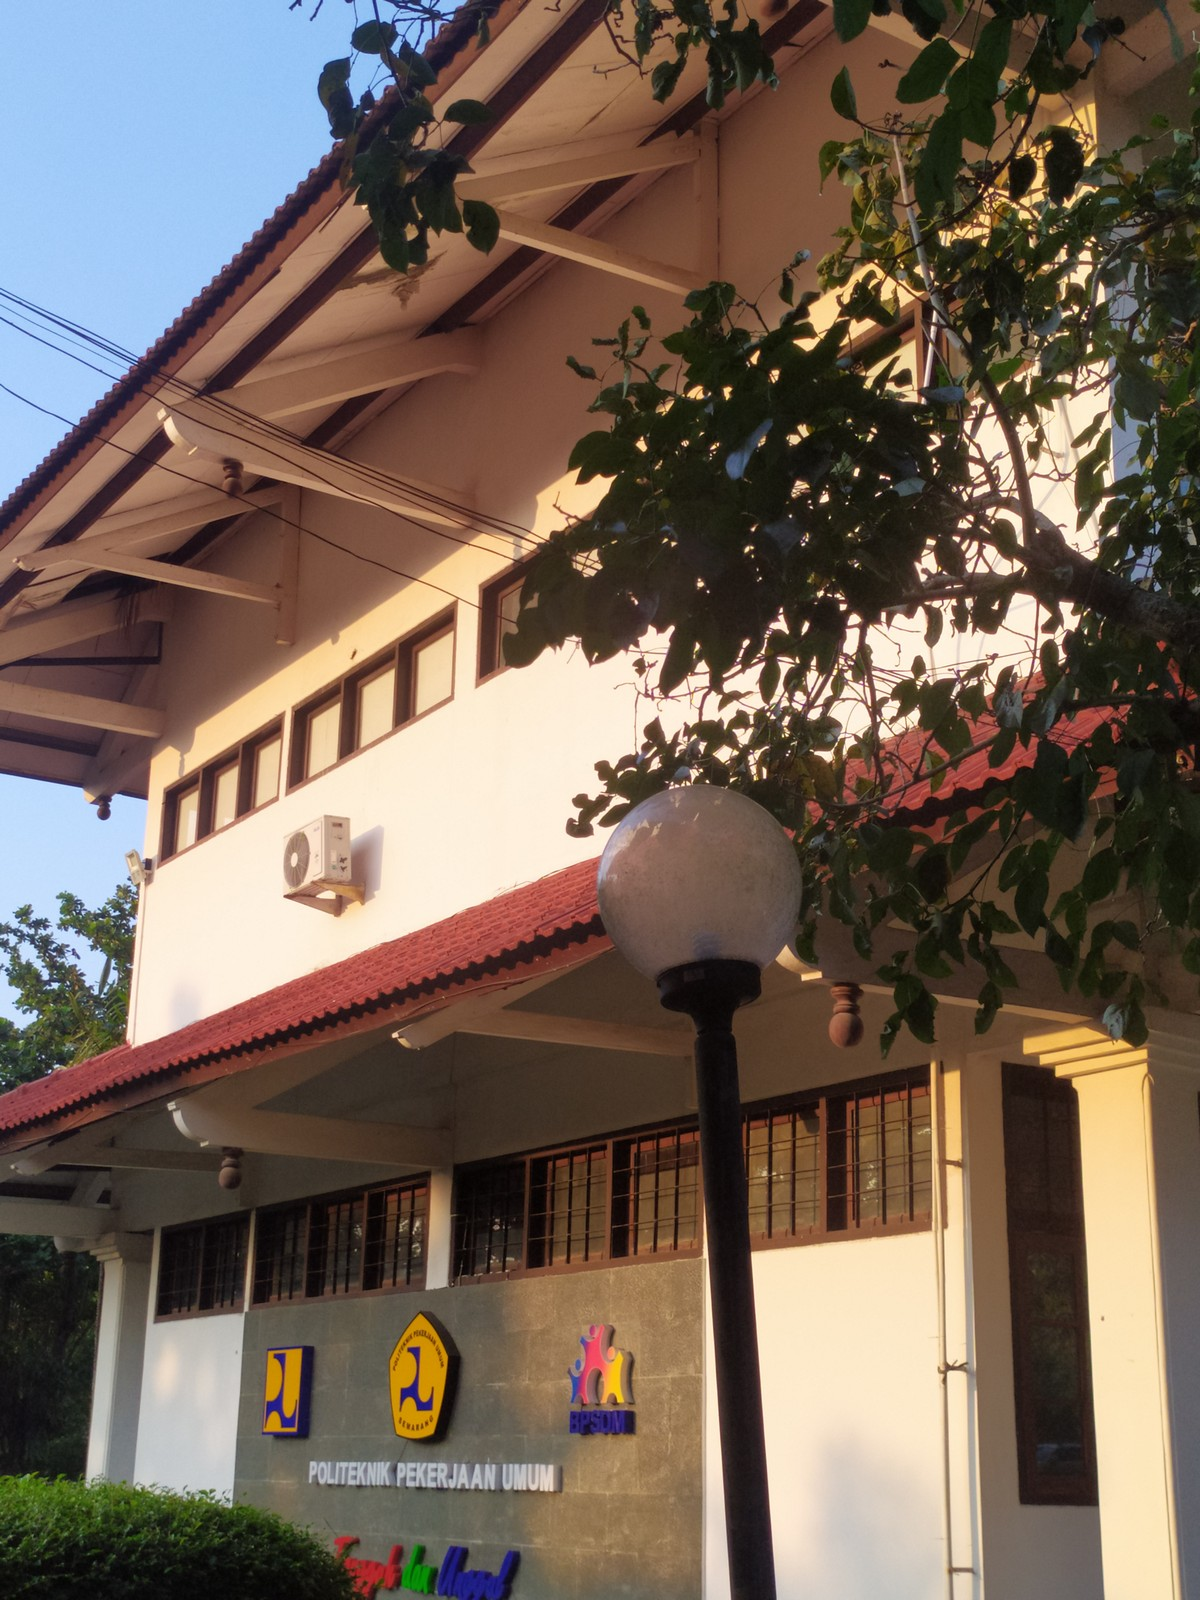concrete beam: (260, 433, 487, 539), (237, 1105, 460, 1177)
concrete column: (1070, 1075, 1200, 1584), (79, 1260, 158, 1490)
